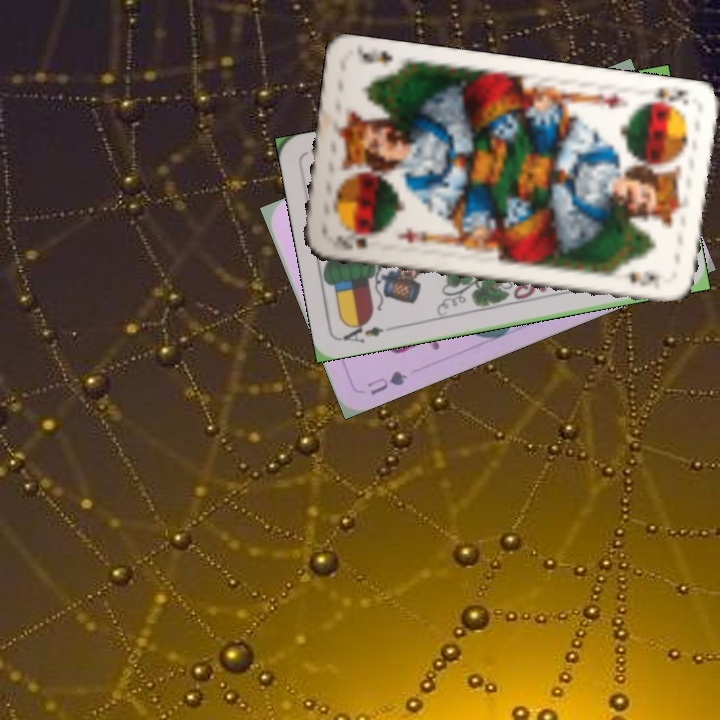EA: (337, 317, 396, 346)
GU: (363, 366, 410, 398)
SK: (637, 83, 692, 111), (332, 229, 370, 254)
